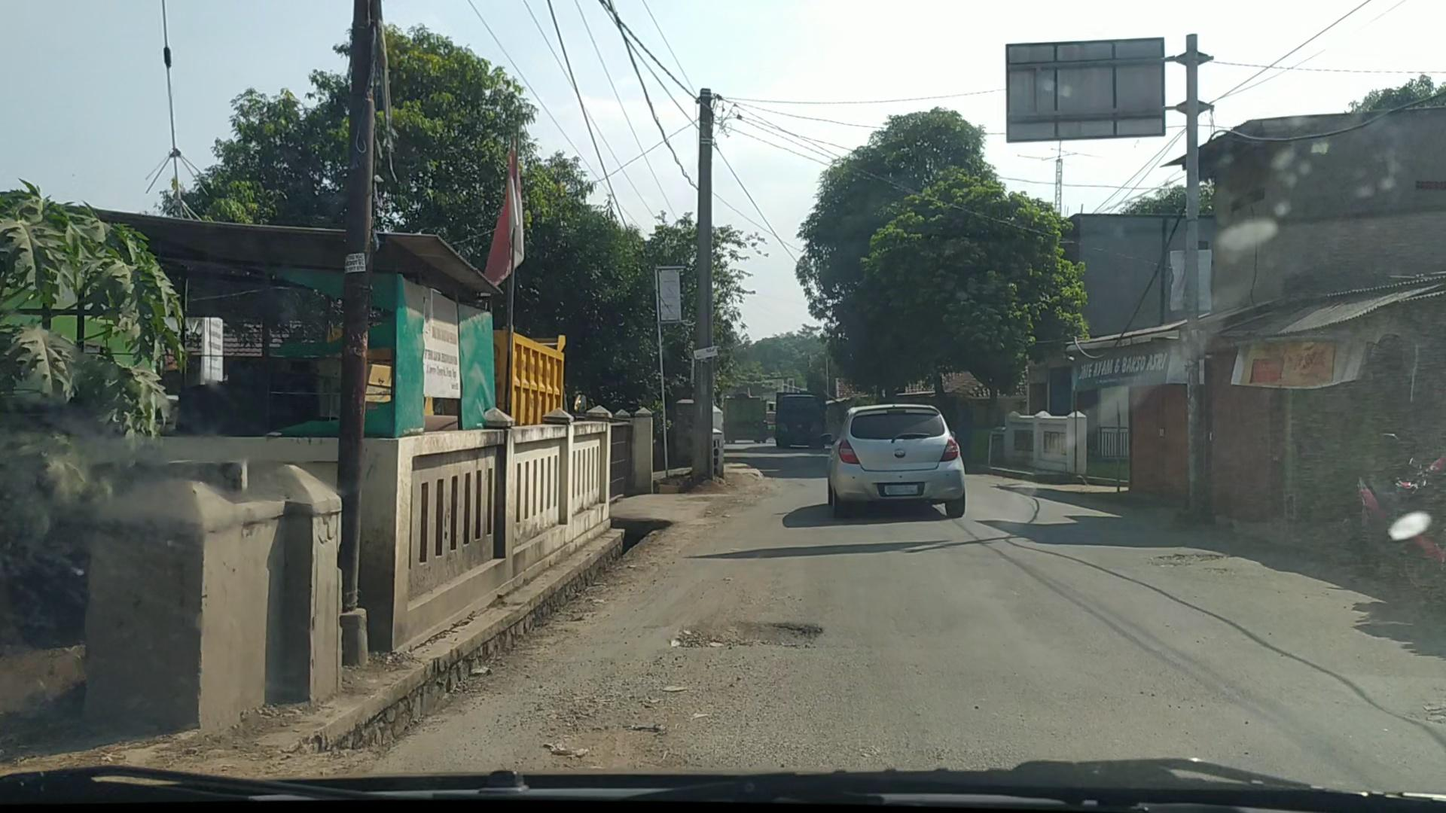pothole: (669, 619, 825, 652)
